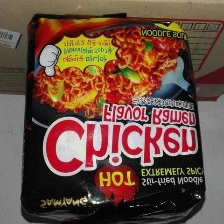snack: (13, 7, 212, 223)
